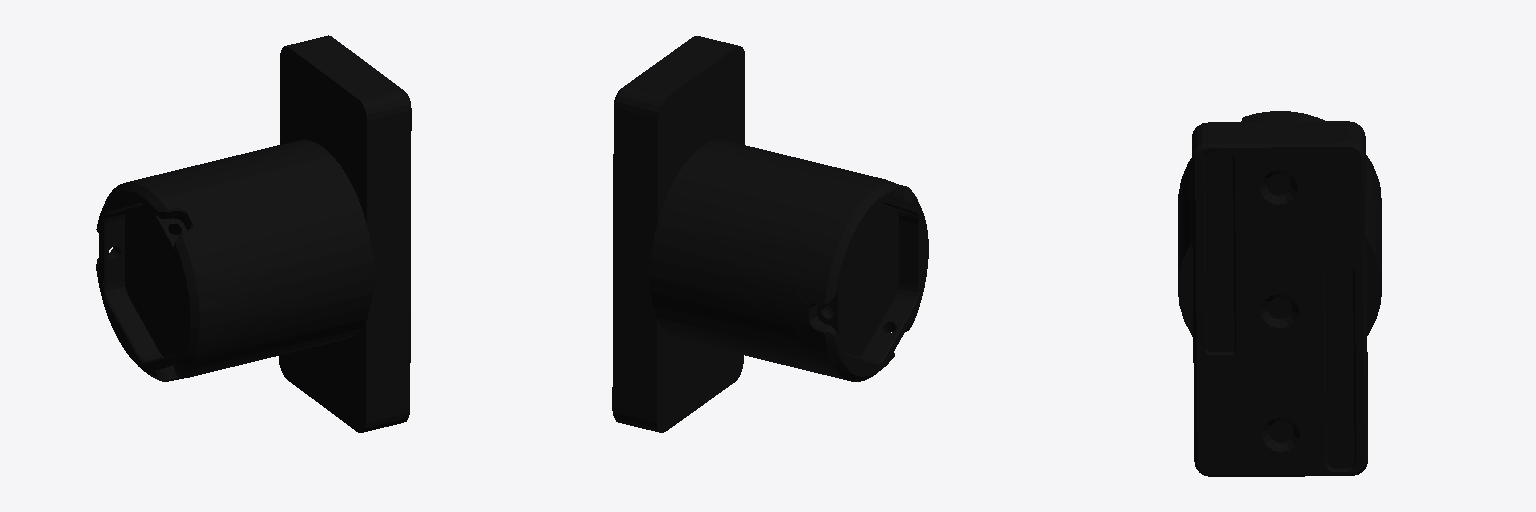
The model's file is gripper_link.obj.
The picture shows the model from 3 angles: view 1: azimuth 30°, elevation 25°; view 2: azimuth 150°, elevation 25°; view 3: azimuth 270°, elevation 25°; orthographic projection.
Parts seen in each view (by area): view 1: gripper_link; view 2: gripper_link; view 3: gripper_link.
Boxes of the visible parts, box(x1,y1,x2,y2) form: gripper_link: box(96, 35, 411, 432); gripper_link: box(612, 36, 928, 432); gripper_link: box(1178, 111, 1381, 476).
Size of the model in its own units: 0.0767 by 0.1083 by 0.06.